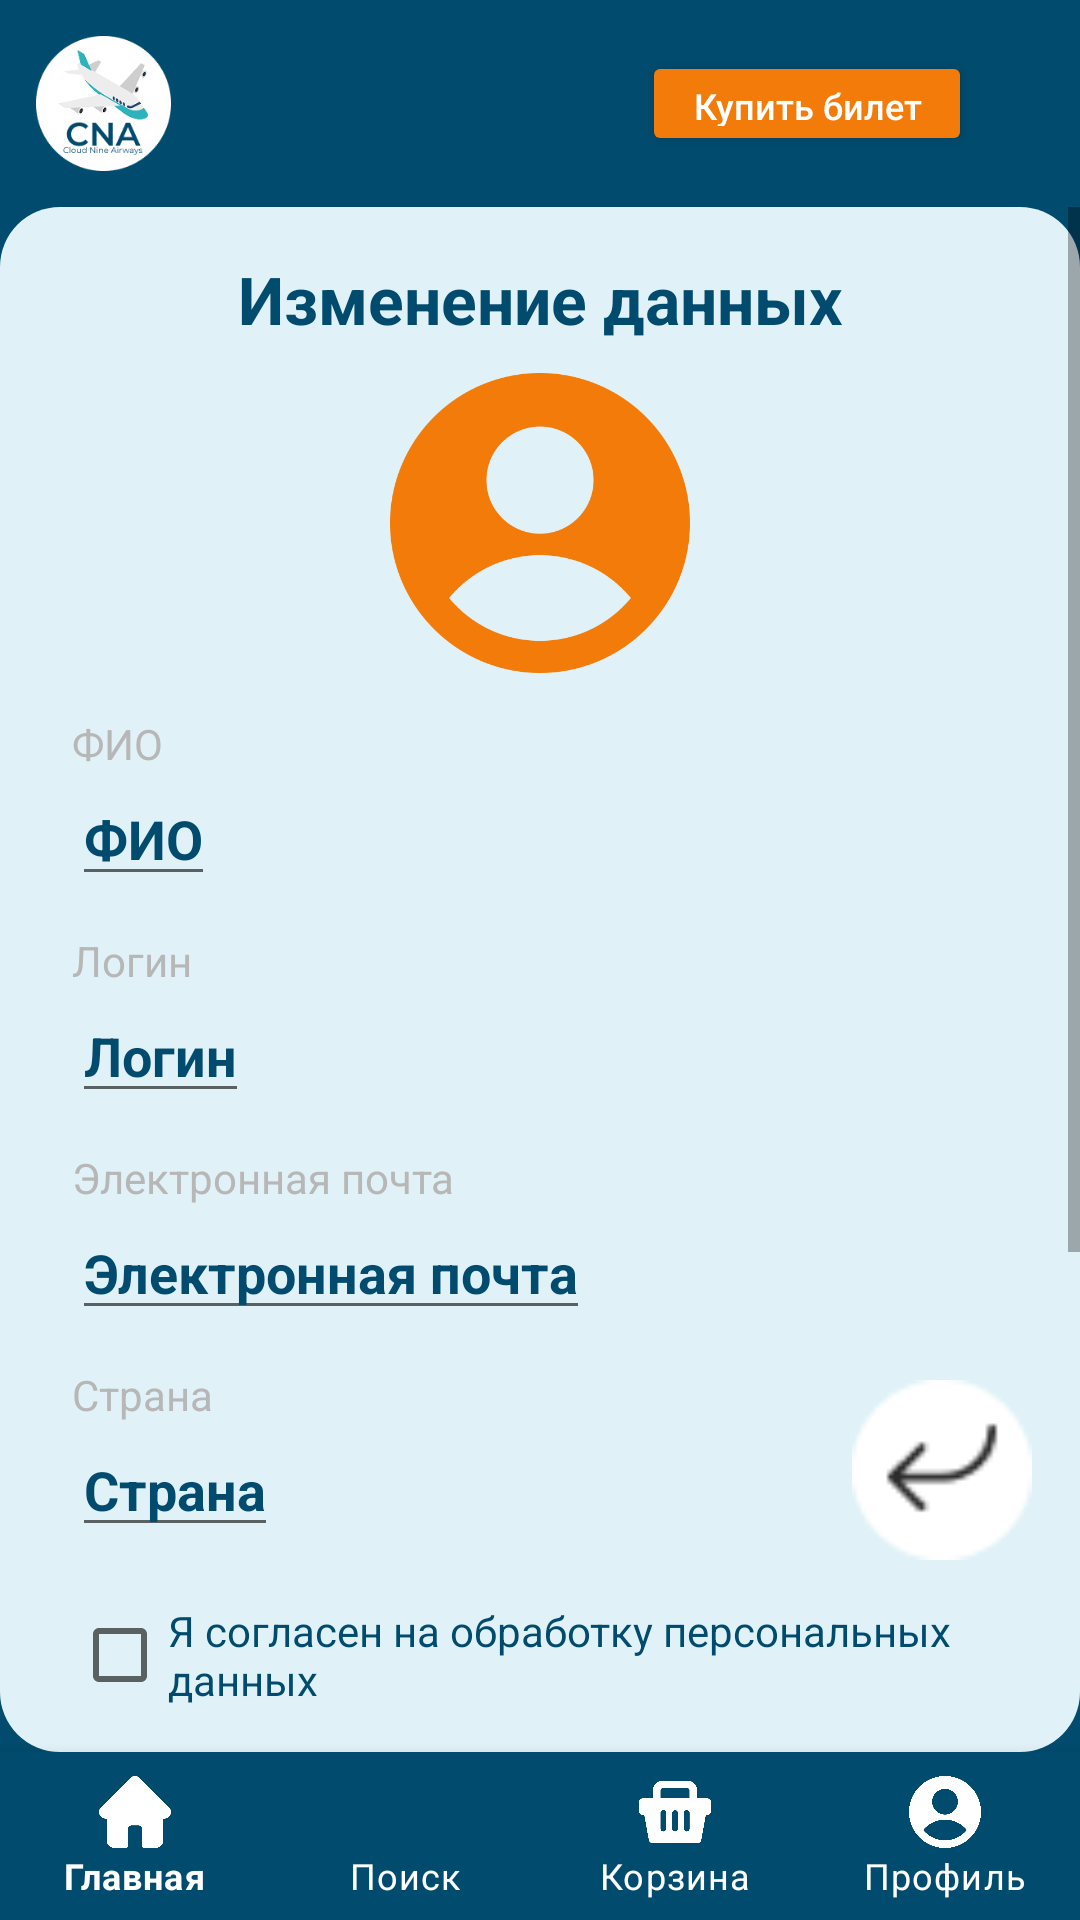

Icons on this 1080px x 1920px Android screen, each with its box as (x1, y1, x2, y2):
backk: (852, 1380, 1032, 1560)
profile: (390, 373, 690, 673)
